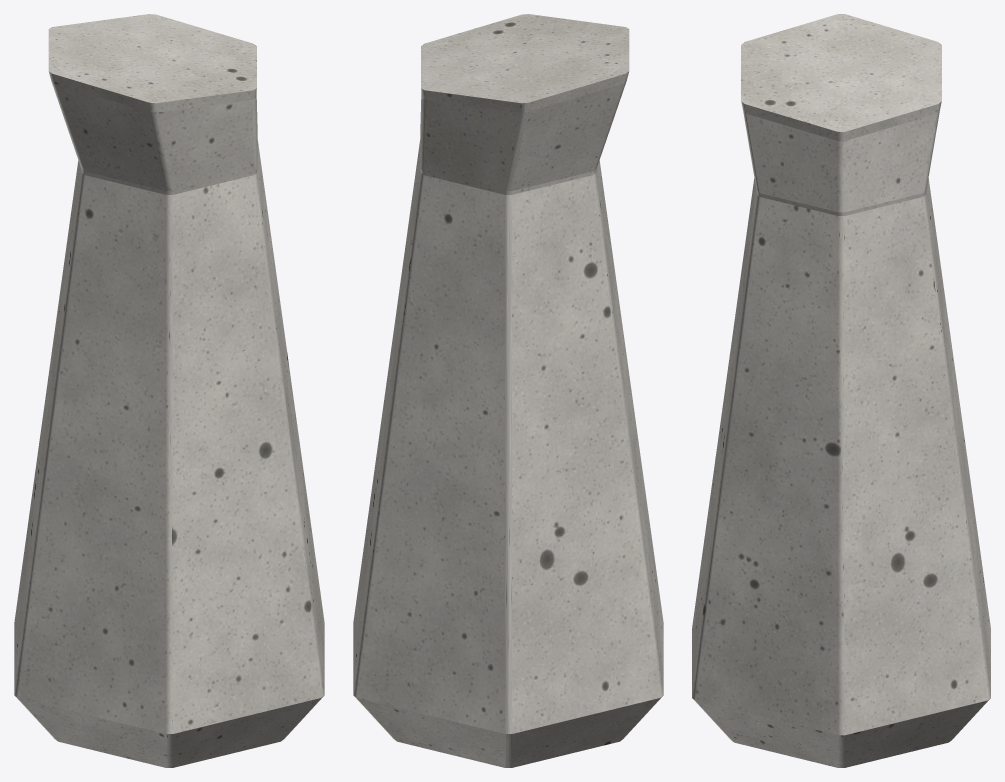
Rendered from knight-white.glb.
3 renders of one model, left to right at view 1: azimuth 30°, elevation 25°; view 2: azimuth 150°, elevation 25°; view 3: azimuth 270°, elevation 25°, orthographic. The views are drawn at different scales.
Parts seen in each view (by area): view 1: HEXALITH_white_knight; view 2: HEXALITH_white_knight; view 3: HEXALITH_white_knight.
Part boxes in pixels (<box>): HEXALITH_white_knight: <box>14,14,324,767</box>; HEXALITH_white_knight: <box>353,14,663,767</box>; HEXALITH_white_knight: <box>692,14,990,767</box>.
Bounding box in the file's own units: 0.5372 × 1.12 × 0.4705.
Materials: 1 (1 with a texture image).
